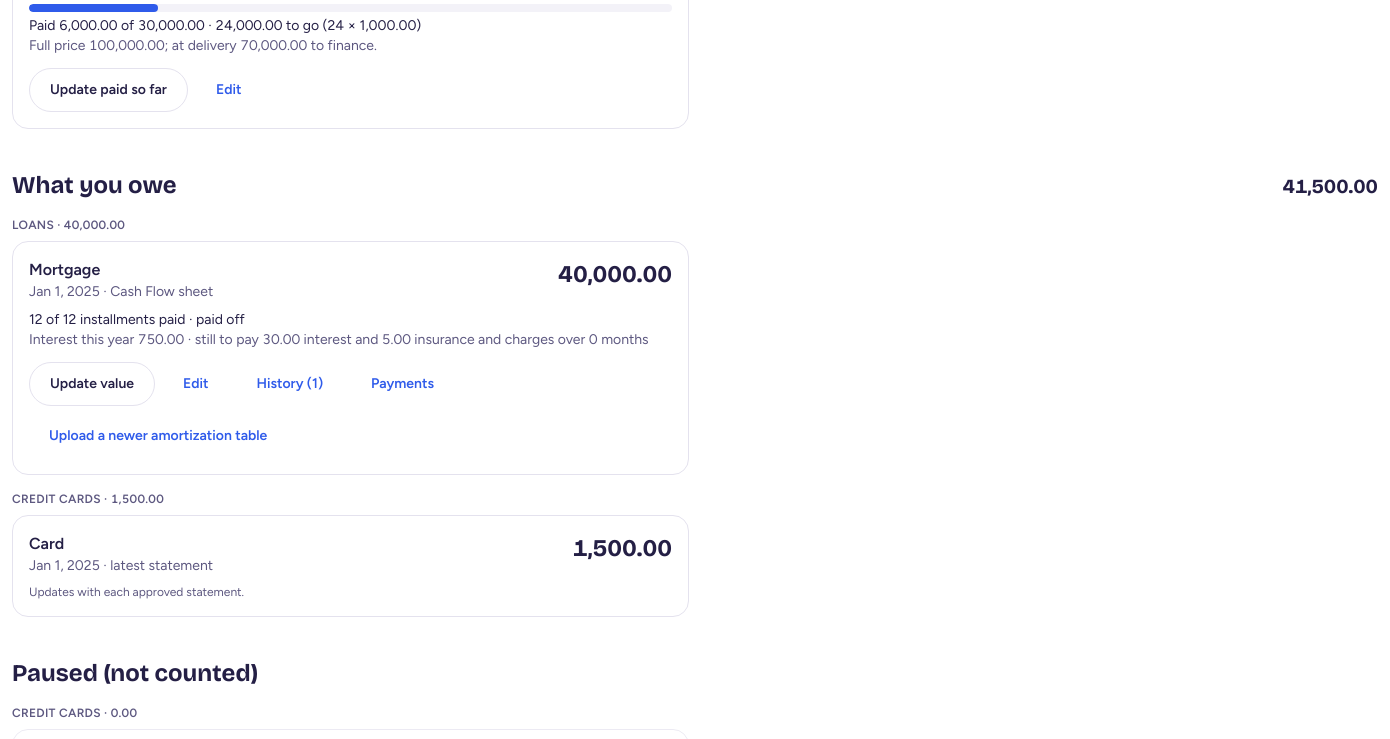
Test: loan amortization table › a paid-off loan and a failed payments load
(page scrolled)
Check: the text "12 of 12 installments paid · paid off" is shown, box [29,311,245,328]
Check: the text "Interest this year" shows "over 0 months", box [29,330,672,350]
Click the button "Payments": (403, 384) [351,362,454,406]
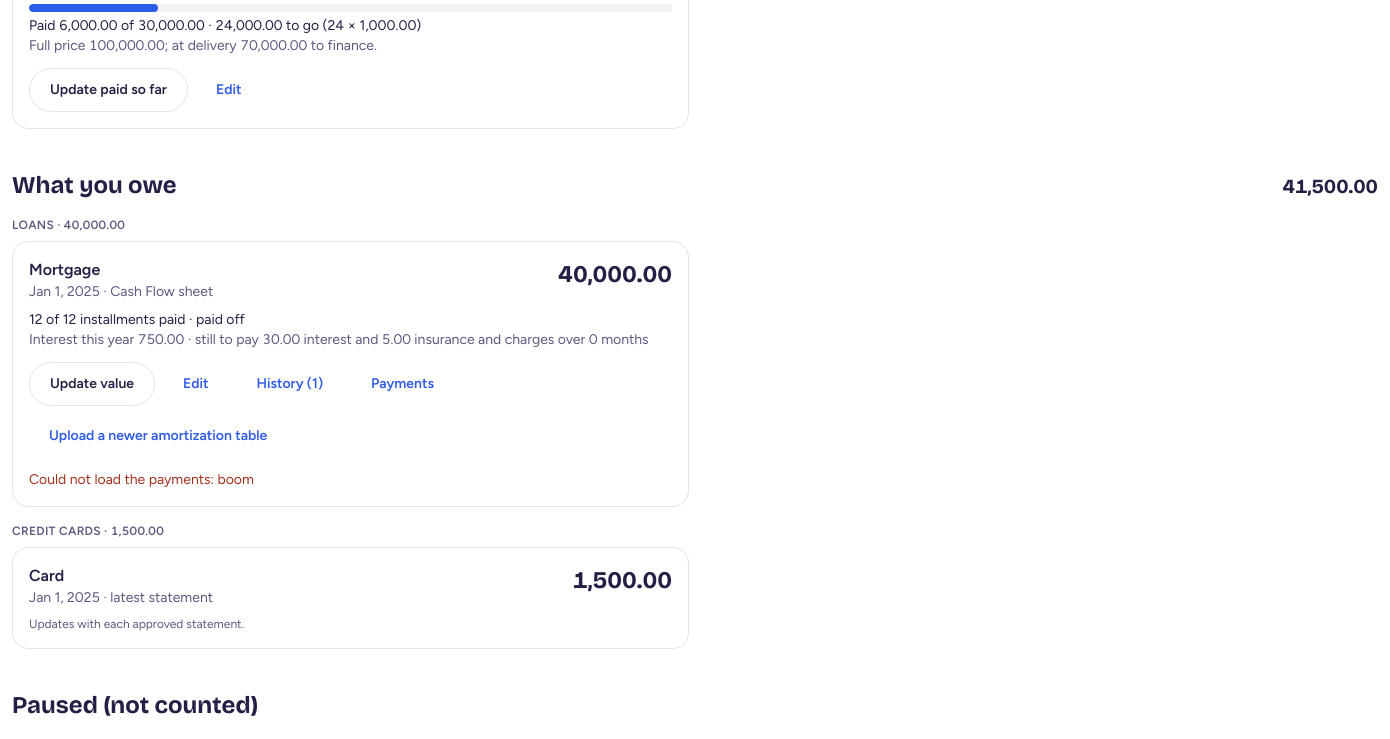
Check: the text "Could not load the payments: boom" is shown, box [29,471,254,488]
